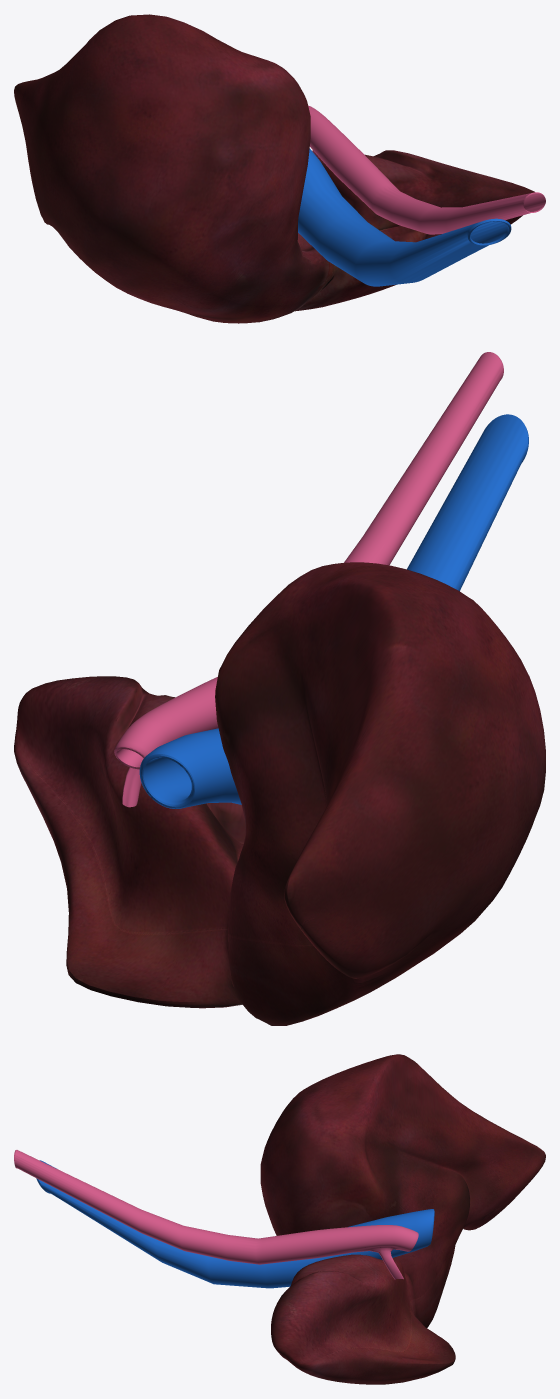
Rendered from liver.obj.
3 renders of one model, top to bottom at view 1: azimuth 30°, elevation 25°; view 2: azimuth 150°, elevation 25°; view 3: azimuth 270°, elevation 25°, orthographic. The views are drawn at different scales.
Parts seen in each view (by area): view 1: Liver; view 2: Liver; view 3: Liver.
Part boxes in pixels (<box>): Liver: <box>14,14,545,323</box>; Liver: <box>14,352,545,1025</box>; Liver: <box>14,1054,545,1384</box>.
Bounding box in the file's own units: 6.81 × 5.08 × 9.65.
